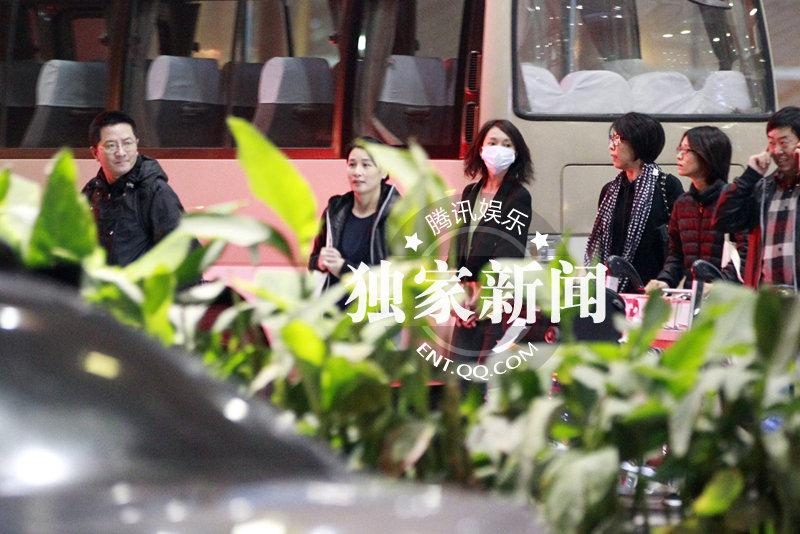NONE: (103, 136, 139, 172), (766, 135, 799, 171), (348, 157, 377, 194), (608, 132, 636, 170), (678, 145, 701, 179)
OK: (480, 136, 520, 176)
